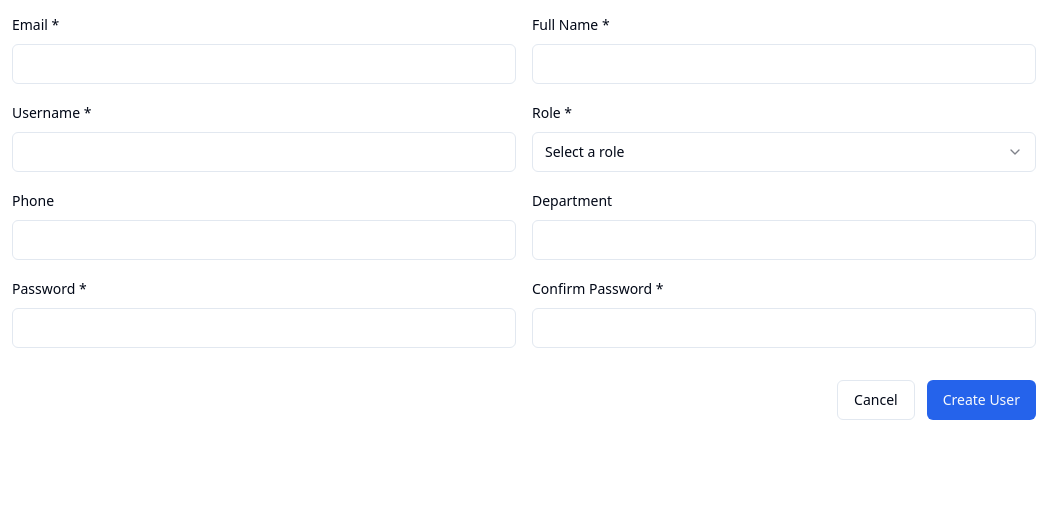
Test: UserForm › Create Mode › validates required fields
The width and height of the screenshot is (1048, 521).
What coordinates should you click on to do the following:
click the button "Create User"
I would click on:
 (981, 400)
Its box is [927,380,1036,420].
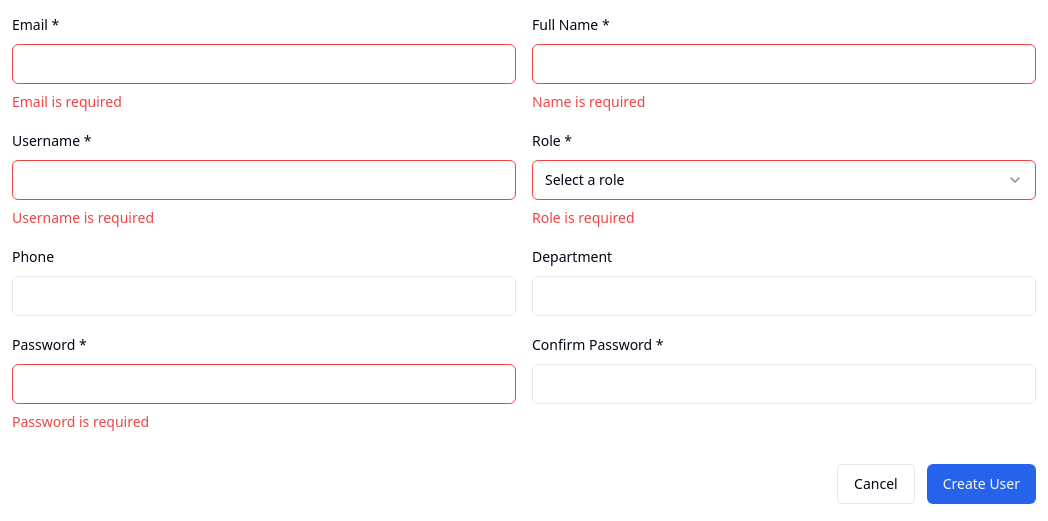
expect the text "Email is required" is shown: met, box [12,92,122,111]
expect the text "Name is required" is shown: met, box [532,92,645,111]
expect the text "Username is required" is shown: met, box [12,208,154,227]
